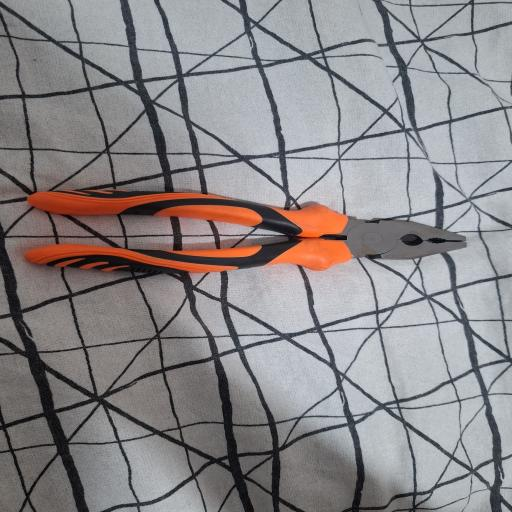alicate: (26, 187, 472, 276)
